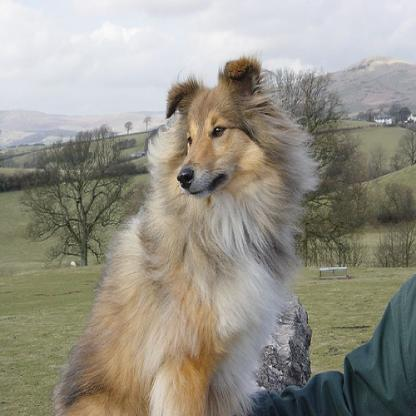Shetland_sheepdog: (50, 52, 327, 414)
